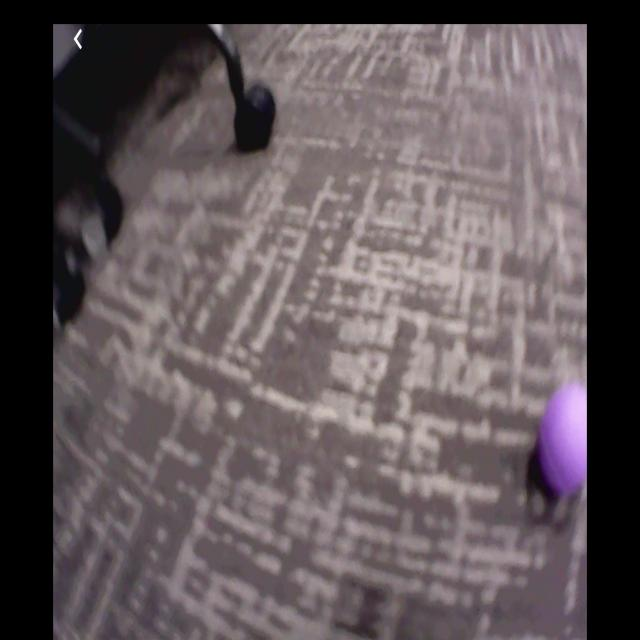ball: (537, 381, 588, 501)
